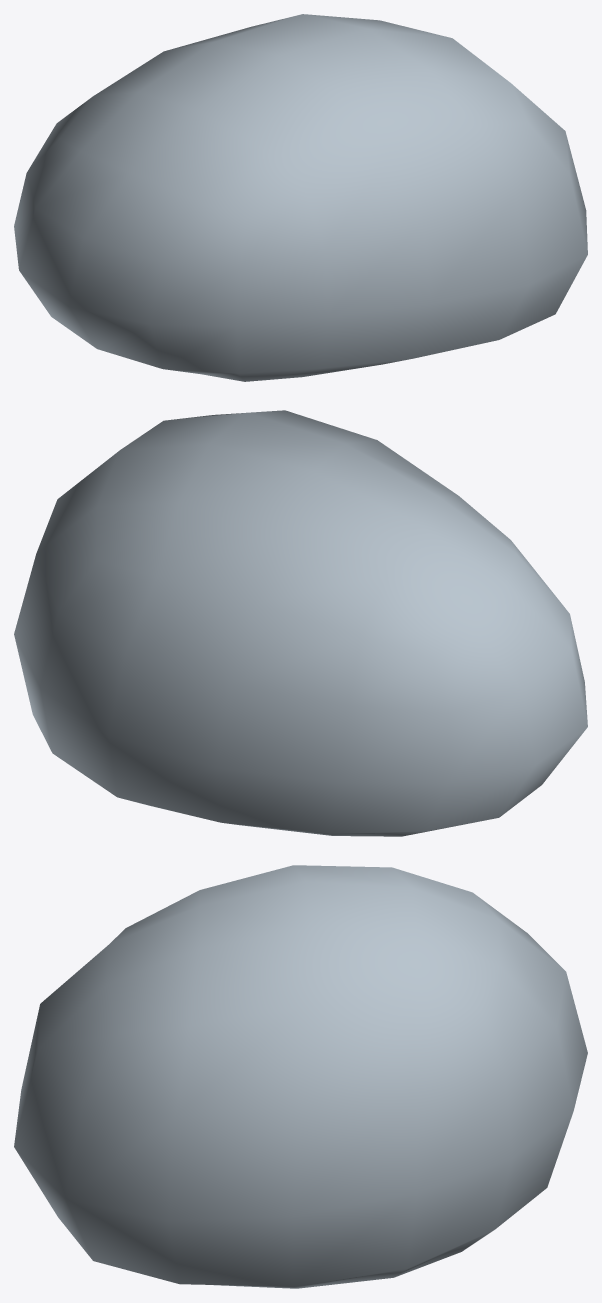
The model's file is itch_assetquest_pond_pebble_1b.glb.
The picture shows the model from 3 angles, top to bottom: view 1: azimuth 30°, elevation 25°; view 2: azimuth 150°, elevation 25°; view 3: azimuth 270°, elevation 25°; orthographic projection. The views are drawn at different scales.
Parts seen in each view (by area): view 1: Pebble_1b; view 2: Pebble_1b; view 3: Pebble_1b.
Boxes of the visible parts, x1,y1,x2,y2 form: Pebble_1b: (14, 14, 587, 381); Pebble_1b: (14, 410, 587, 836); Pebble_1b: (14, 865, 587, 1288).
Bounding box in the file's own units: 0.42 × 0.234 × 0.3738.
